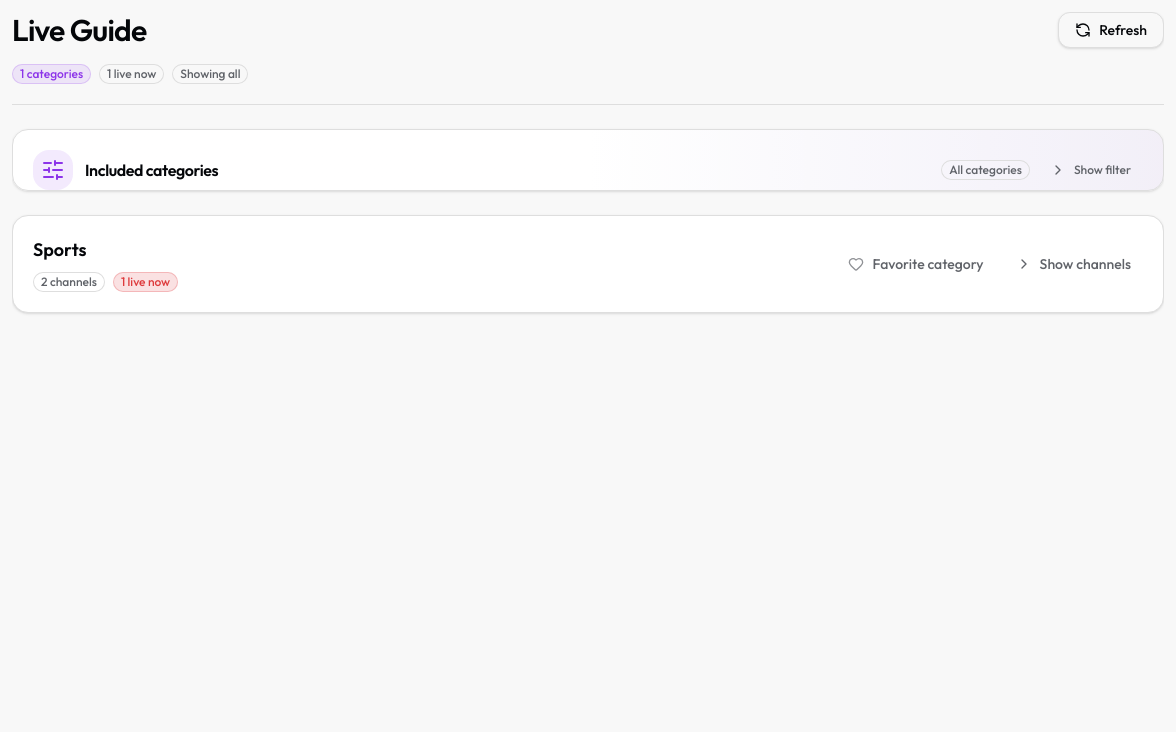
Scenario: GuidePage › appends the next page when load more is pressed
Click the button "Show channels".
click(1073, 264)  # box [1004,246,1143,282]
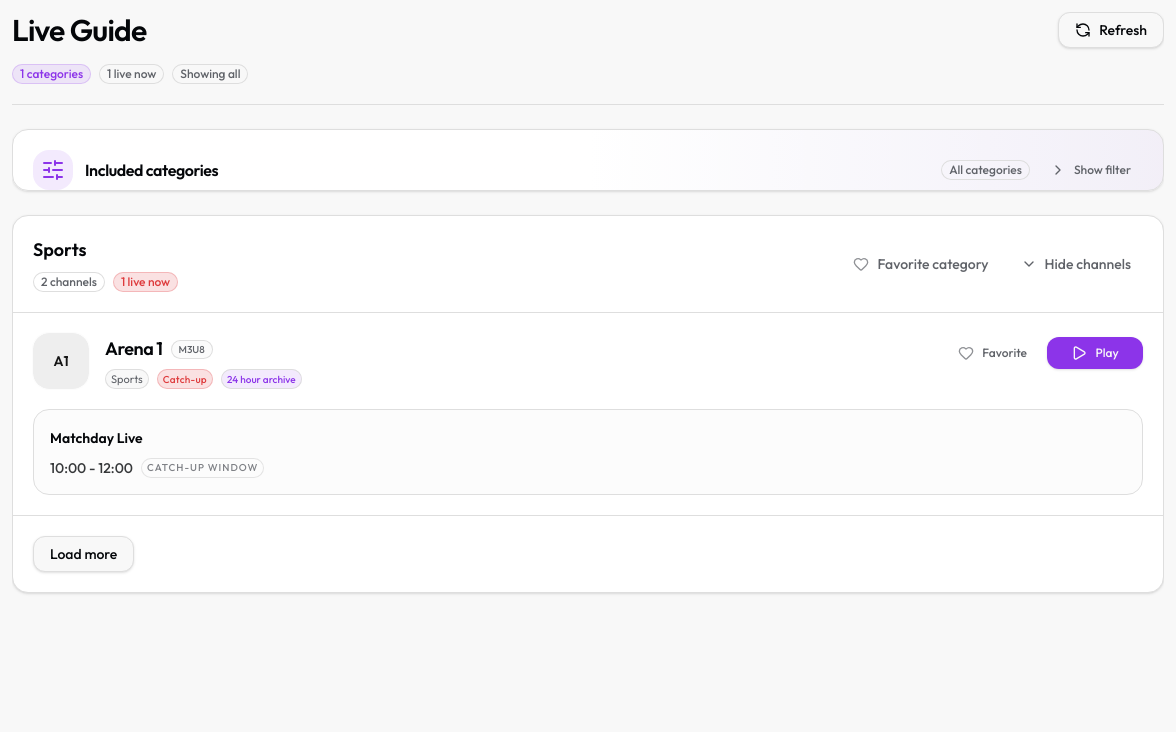
Expected: the text "Matchday Live" is shown, [50,426,143,450]
Click the button "Load more".
click(84, 554)  # box [33,536,134,572]
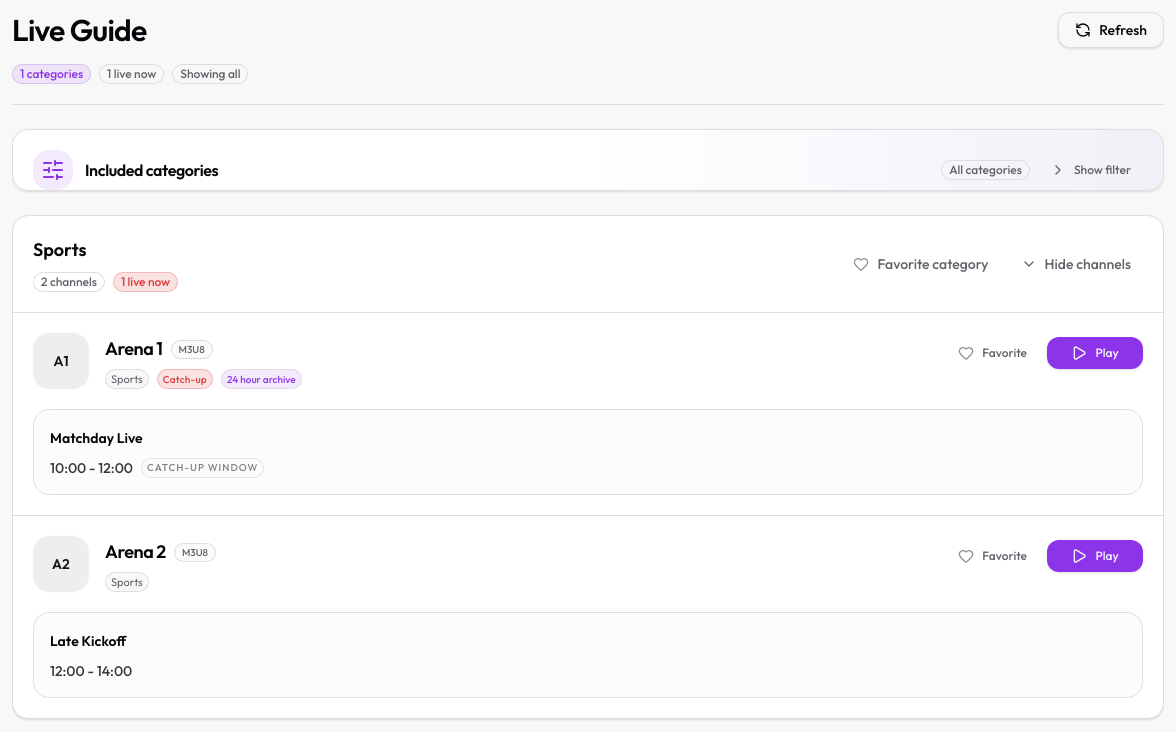
Expected: the text "Matchday Live" is shown, [50,426,143,450]
Expected: the text "Late Kickoff" is shown, [50,629,126,653]
